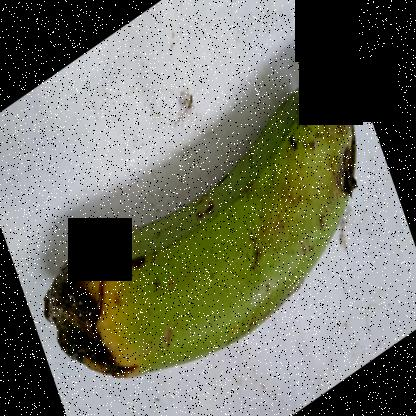rotten: (45, 229, 167, 412)
unripe: (132, 67, 362, 378)
